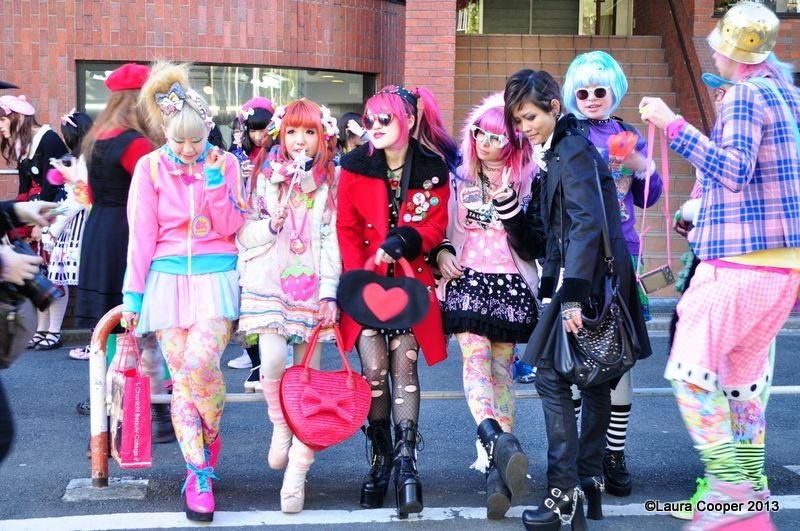person: (629, 1, 800, 531), (485, 67, 661, 531), (113, 60, 259, 529), (334, 78, 457, 524), (235, 94, 352, 520), (553, 41, 658, 508), (446, 91, 551, 520), (65, 53, 176, 337), (1, 91, 97, 359), (230, 96, 277, 153)
